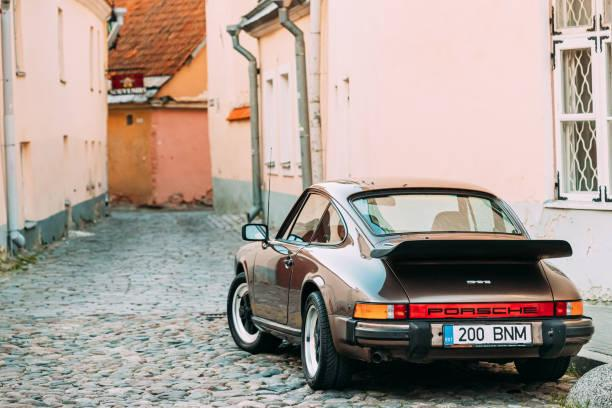porsche: (420, 300, 544, 318)
